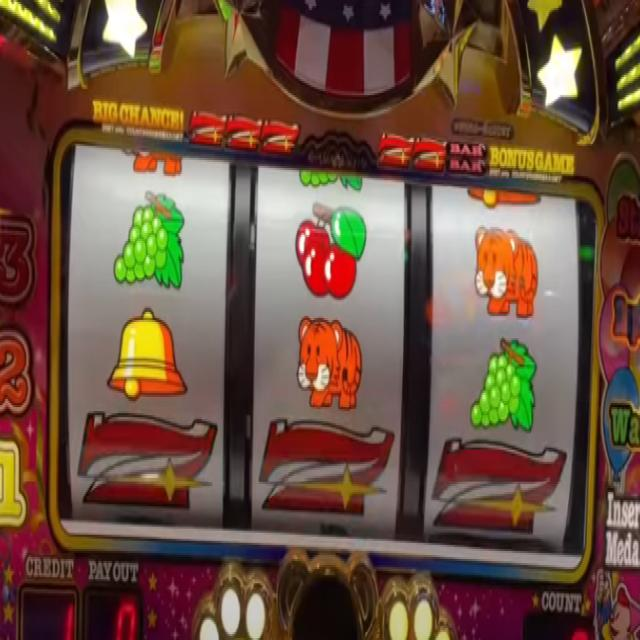bar: (448, 137, 488, 177)
bell: (106, 305, 190, 405), (465, 182, 544, 210)
cherry: (293, 200, 367, 300)
display: (54, 147, 584, 561)
grape: (113, 189, 186, 295), (469, 334, 536, 434), (297, 166, 367, 191)
tiger: (296, 313, 363, 414), (472, 223, 540, 322), (122, 146, 184, 178)
z: (76, 408, 218, 515), (258, 416, 396, 522), (431, 434, 568, 538), (188, 106, 226, 148), (263, 114, 300, 156), (229, 104, 261, 152), (379, 128, 413, 171), (415, 131, 447, 173)
